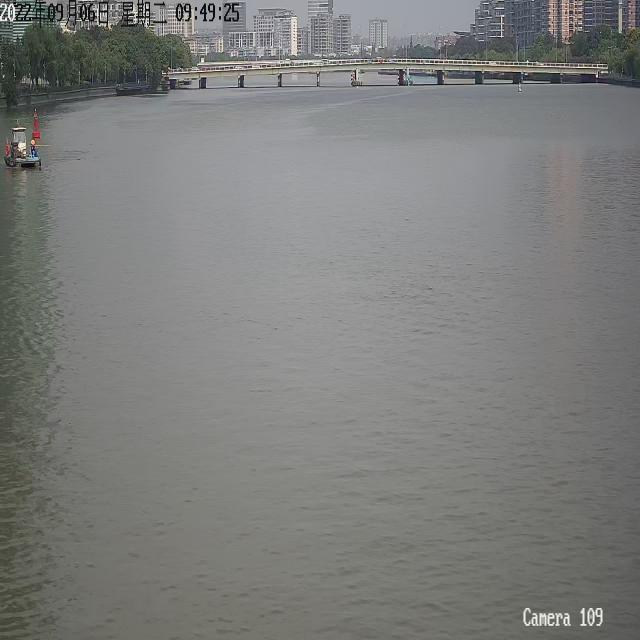ship: (3, 125, 40, 167)
